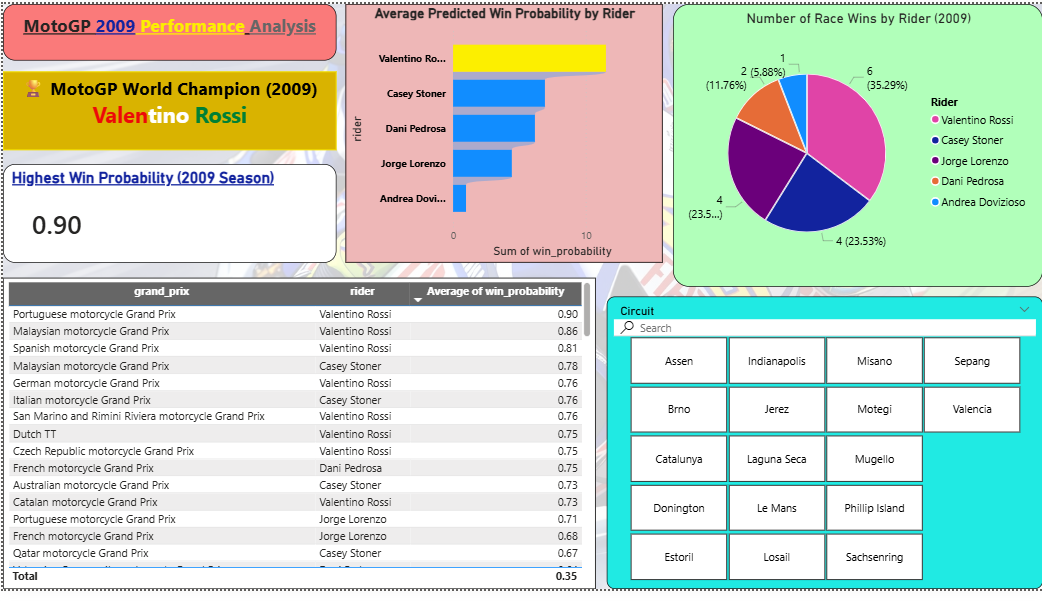

Layout of this report page (visuals, bound fields, positions):
{"tool":"powerbi","page":{"name":"Page 1","canvas":[1280,720],"ordinal":0},"visuals":[{"type":"barChart","title":"Average Predicted Win Probability by Rider","fields":{"Category":["motogp_2009_predictions (1).rider"],"Y":["motogp_2009_predictions (1).win_probability"]},"box":[421.5,0,390.8,318.5],"z":0},{"type":"tableEx","fields":{"Values":["motogp_2009_predictions (1).grand_prix","motogp_2009_predictions (1).rider","motogp_2009_predictions (1).win_probability"]},"box":[0,336.9,729.2,383.1],"z":1000},{"type":"slicer","fields":{"Values":["motogp_2009_predictions (1).circuit"]},"box":[743.1,360,536.9,360],"z":2000},{"type":"cardVisual","title":"Highest Win Probability (2009 Season)","fields":{"Data":["motogp_2009_predictions (1).win_probability"]},"box":[0,196.9,410.8,121.5],"z":3000},{"type":"pieChart","title":"Number of Race Wins by Rider (2009)","fields":{"Category":["motogp_2009_predictions (1).rider"],"Y":["motogp_2009_predictions (1).is_winner"]},"box":[824.6,0,455.4,347.7],"z":4000},{"type":"textbox","box":[0,0,410.8,69.2],"z":5000},{"type":"textbox","box":[0,83.1,410.8,96.9],"z":6000}]}

Visuals, with their boxes in screenshot pixels (x1, y1, x2, y2), scaled from the page's 1280x720 canvas onto the 1042x601 screenshot:
"Average Predicted Win Probability by Rider" barChart: Rect(343, 0, 661, 266)
tableEx - motogp_2009_predictions (1).grand_prix x motogp_2009_predictions (1).rider: Rect(0, 281, 594, 600)
slicer - motogp_2009_predictions (1).circuit: Rect(605, 300, 1041, 600)
"Highest Win Probability (2009 Season)" cardVisual: Rect(0, 164, 334, 266)
"Number of Race Wins by Rider (2009)" pieChart: Rect(671, 0, 1041, 290)
textbox: Rect(0, 0, 334, 58)
textbox: Rect(0, 69, 334, 150)
